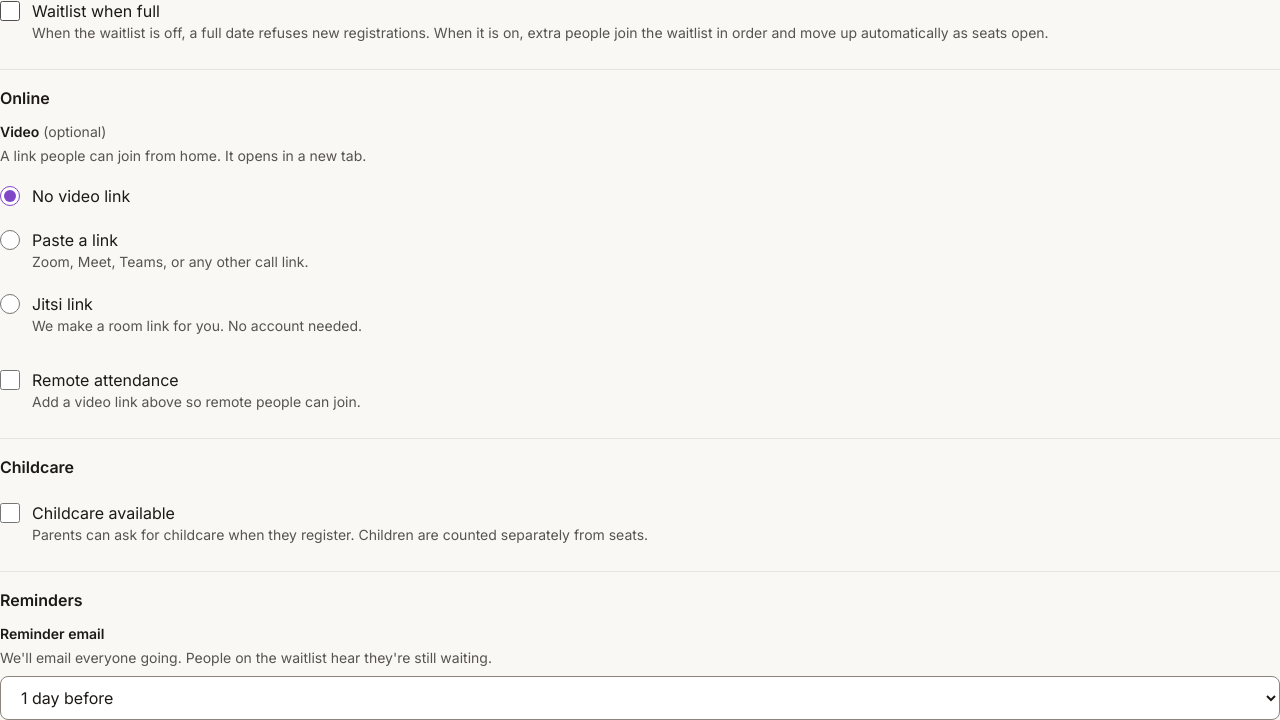
Scenario: ReminderField in More options › offers the five reminder times, 1 day before by default, and says who hears
(page scrolled)
Step 1. Select "Off" in the dropdown labelled "Reminder email" → (640, 698), box [0,676,1279,719]
(page scrolled)
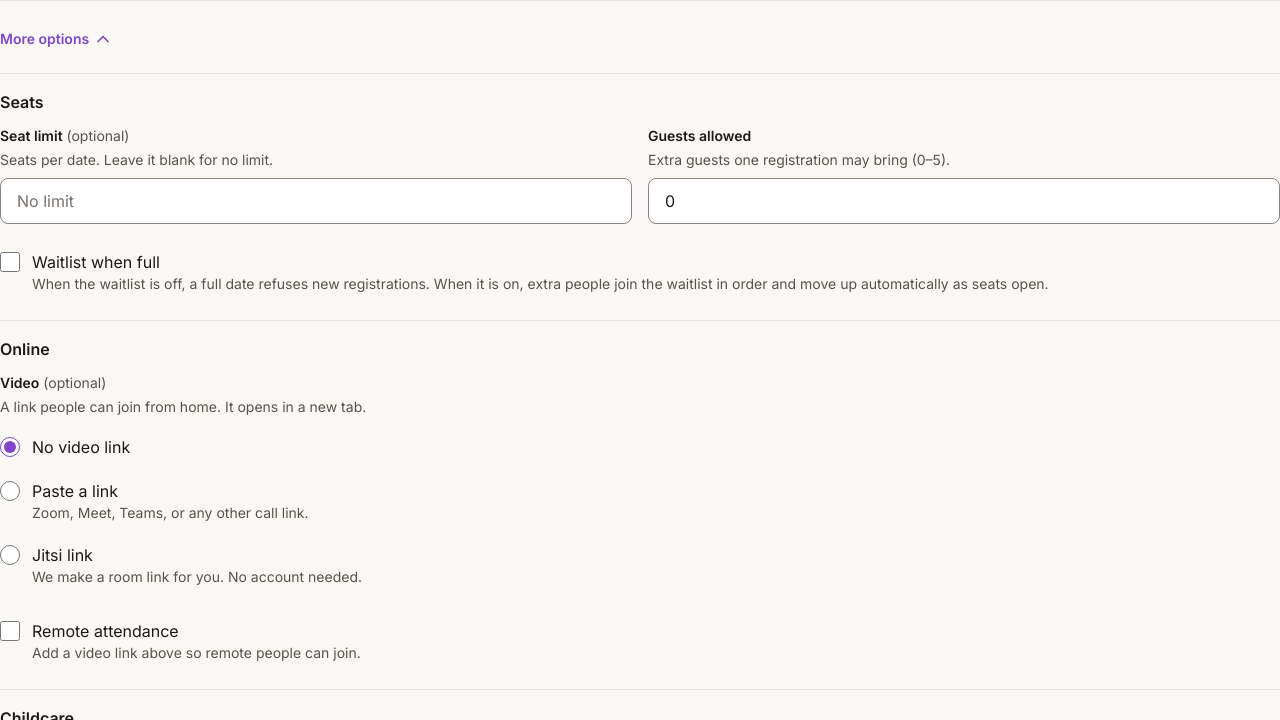
Step 2. Click the button "More options" → click(57, 39), box [0,17,113,61]
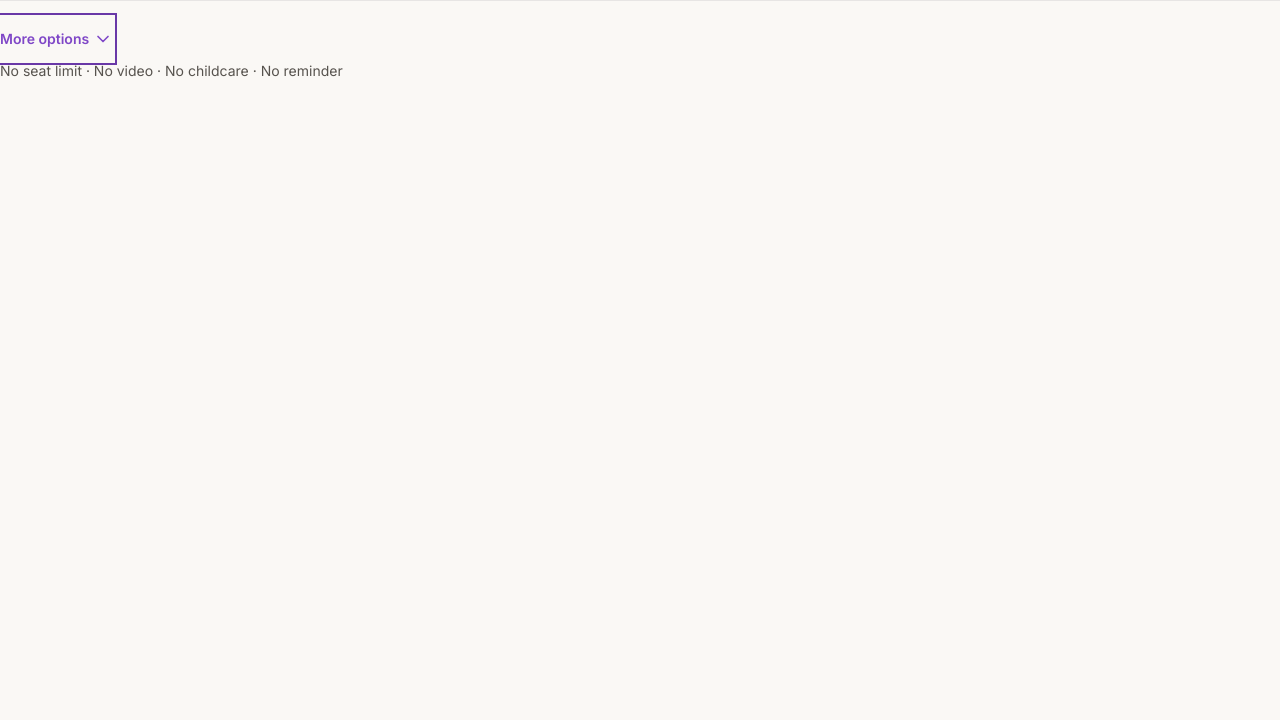
Now the text "No seat limit · No video · No childcare · No reminder" is shown, box [0,62,343,79]
